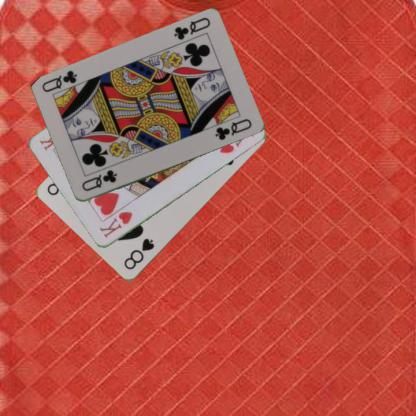8s: (121, 236, 156, 272)
Kh: (97, 208, 135, 240)
Qc: (171, 15, 211, 42), (79, 168, 118, 193)
